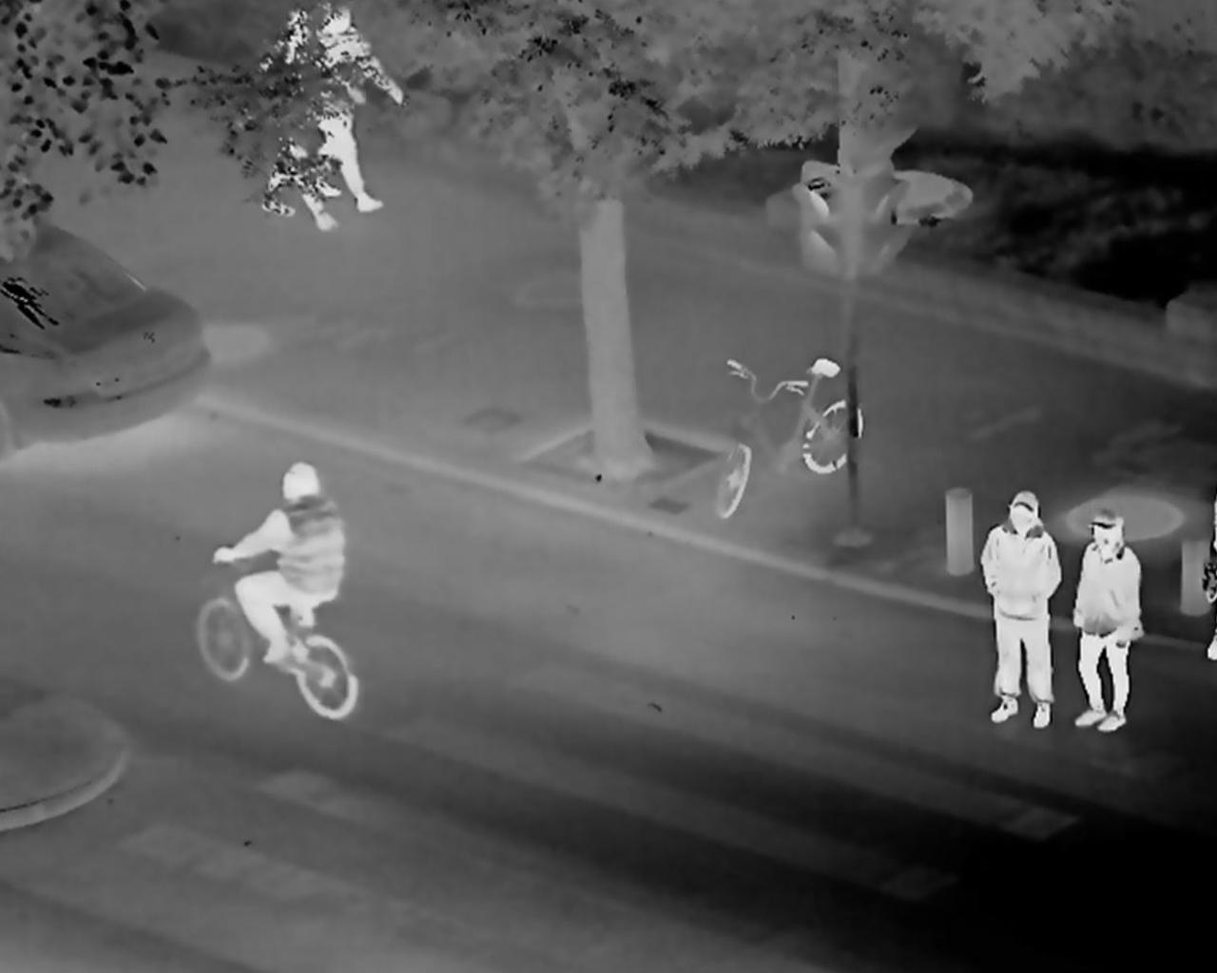person: (213, 464, 344, 677), (305, 7, 407, 221), (978, 490, 1061, 731), (241, 10, 322, 230), (1072, 509, 1142, 733)
